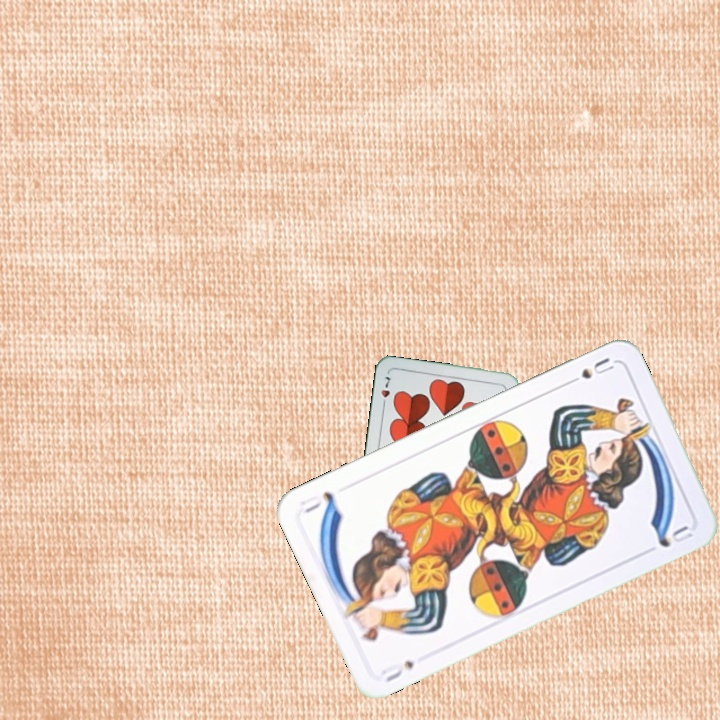H7: (377, 372, 394, 411)
SU: (561, 353, 618, 388), (377, 656, 417, 685)
